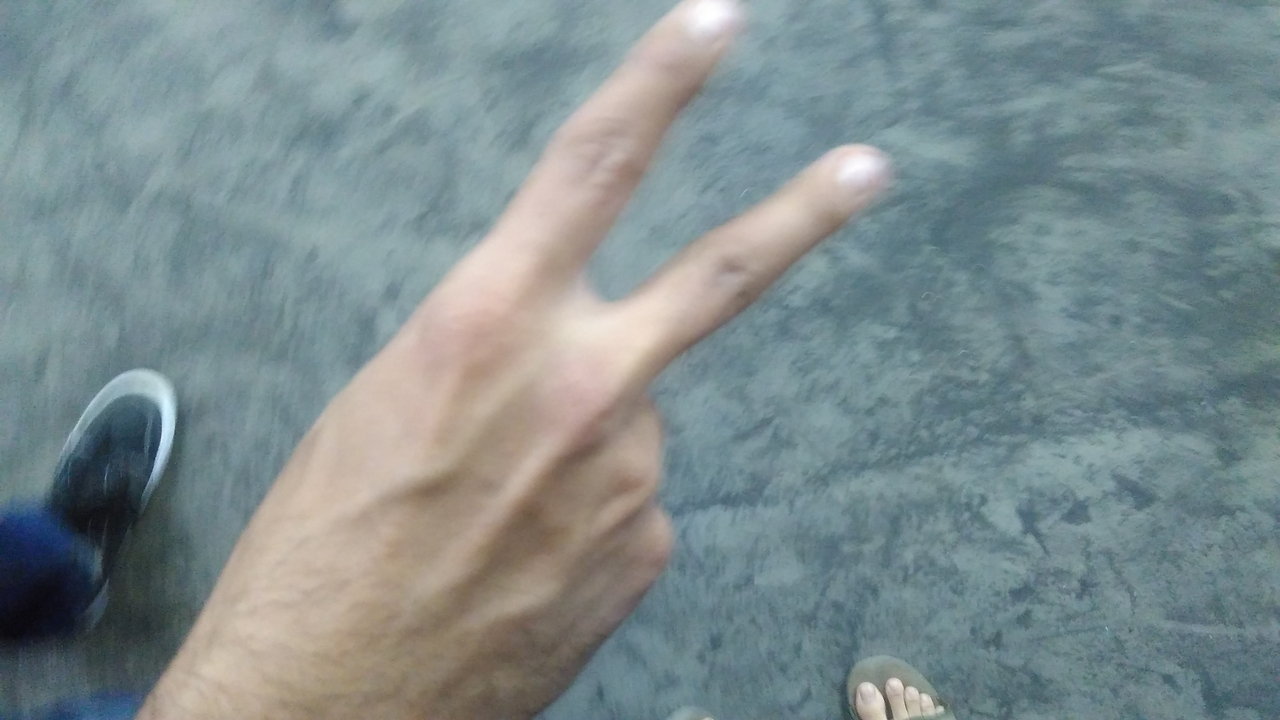fingertip: (800, 140, 910, 204), (657, 1, 751, 48)
